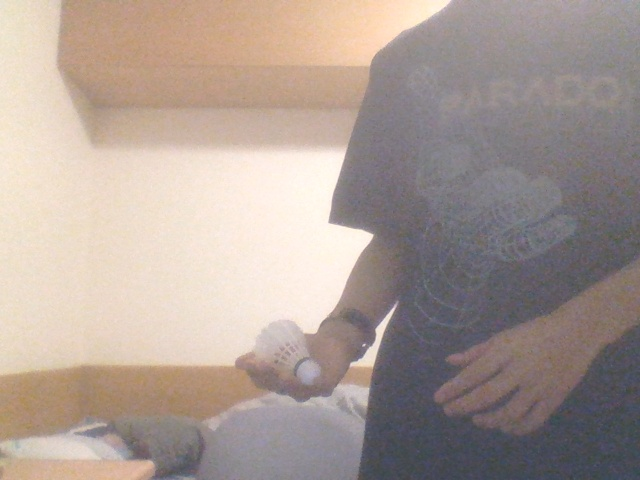human: (235, 1, 640, 480)
shuttle: (253, 318, 322, 386)
